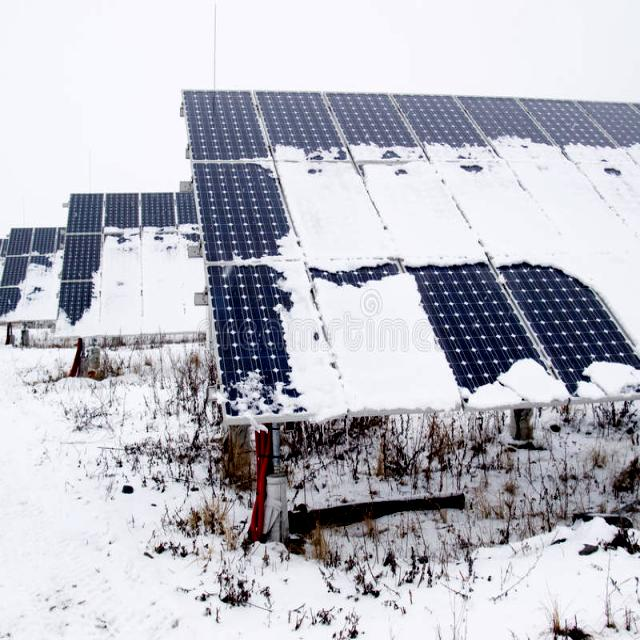panel: (247, 142, 394, 278), (400, 128, 538, 272), (546, 121, 640, 312), (228, 288, 328, 427), (406, 287, 463, 429), (312, 251, 416, 328), (86, 218, 219, 273), (464, 335, 559, 411), (15, 232, 66, 322), (582, 340, 640, 408), (56, 280, 110, 340)
